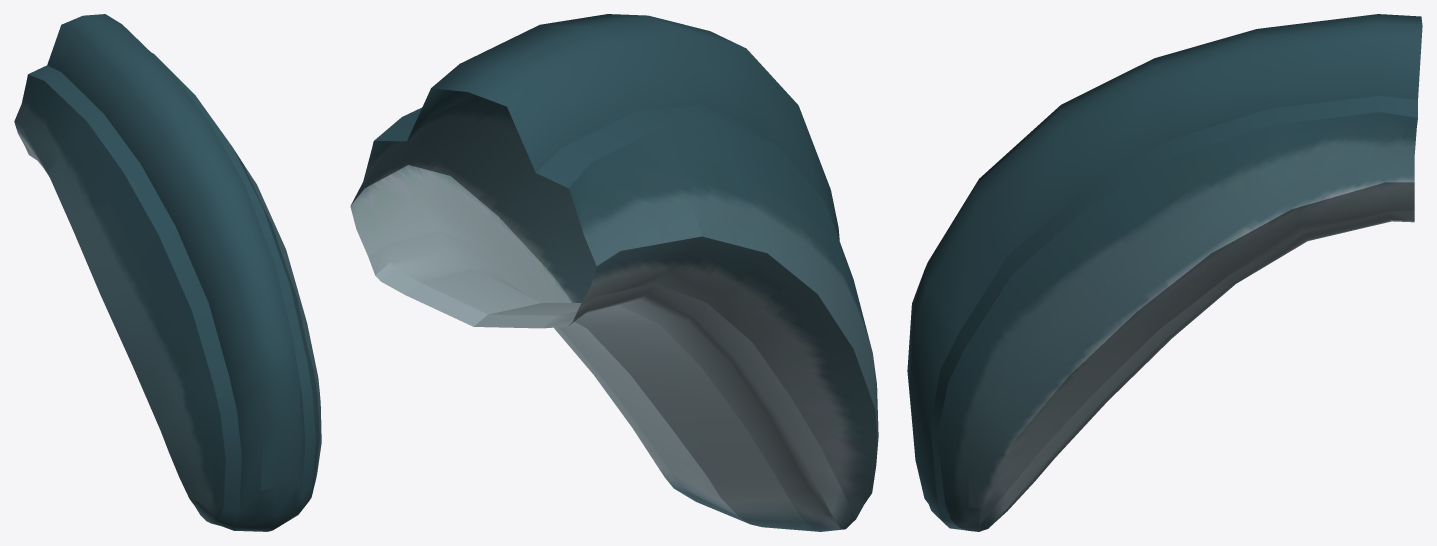
Rendered from Cola.obj.
3 views of the same model, side by side, from view 1: azimuth 30°, elevation 25°; view 2: azimuth 150°, elevation 25°; view 3: azimuth 270°, elevation 25° (orthographic). The views are drawn at different scales.
Parts seen in each view (by area): view 1: Mosasaurs:polySurface8 Mosasaurs:polySurface7 Mosasaurs:polySurf; view 2: Mosasaurs:polySurface8 Mosasaurs:polySurface7 Mosasaurs:polySurf; view 3: Mosasaurs:polySurface8 Mosasaurs:polySurface7 Mosasaurs:polySurf.
Part boxes in pixels (bbox=[...]): Mosasaurs:polySurface8 Mosasaurs:polySurface7 Mosasaurs:polySurf: bbox=[14, 14, 321, 531]; Mosasaurs:polySurface8 Mosasaurs:polySurface7 Mosasaurs:polySurf: bbox=[350, 14, 878, 531]; Mosasaurs:polySurface8 Mosasaurs:polySurface7 Mosasaurs:polySurf: bbox=[907, 14, 1422, 531].
Bounding box in the file's own units: 2.14 × 4.21 × 3.97.
1 material, 1 textured.
